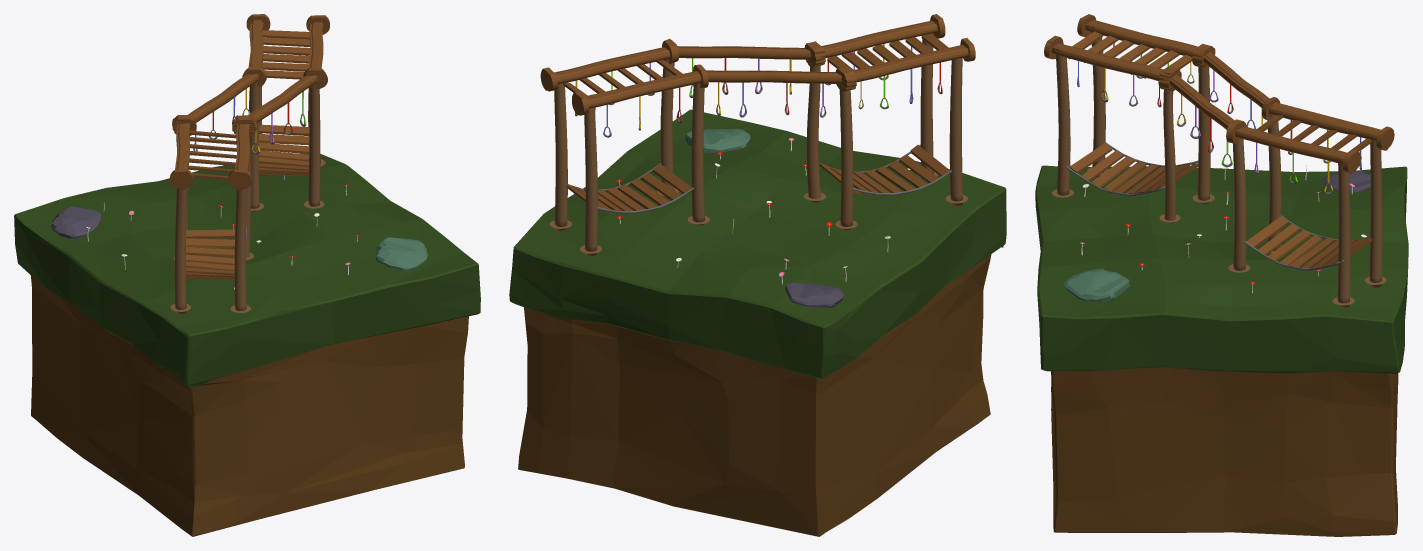
Rendered from tile_junglegym.min.gltf.
3 views of the same model, side by side, from view 1: azimuth 30°, elevation 25°; view 2: azimuth 150°, elevation 25°; view 3: azimuth 270°, elevation 25° (orthographic). The views are drawn at different scales.
Parts seen in each view (by area): view 1: CENTERED.012, Object_76.000, Bridge.008, Bridge.007, Bridge.004, Object_83.003, Object_83.002, Object_87.001, Bridge.001, Box001.043, Box001.044, Object_86.001 (+1 smaller); view 2: CENTERED.012, Object_76.000, Bridge.007, Bridge.008, Object_89.002, Object_83.003, Object_89.003, Object_85.001, Object_86.001, Object_84.001, Bridge.001, Torus.000 (+5 smaller); view 3: CENTERED.012, Object_76.000, Bridge.007, Bridge.008, Object_89.002, Object_83.002, Object_89.003, Bridge.001, Object_87.001, Box001.043, Torus.000, Object_85.001 (+7 smaller).
Part boxes in pixels (x1=…): CENTERED.012: x1=14, y1=153, x2=480, y2=536; Object_76.000: x1=169, y1=14, x2=329, y2=190; Bridge.008: x1=259, y1=124, x2=309, y2=176; Bridge.007: x1=186, y1=229, x2=234, y2=279; Bridge.004: x1=261, y1=30, x2=310, y2=79; Object_83.003: x1=170, y1=188, x2=191, y2=313; Object_83.002: x1=230, y1=188, x2=250, y2=312; Object_87.001: x1=304, y1=84, x2=324, y2=208; Bridge.001: x1=188, y1=130, x2=236, y2=179; Box001.043: x1=375, y1=237, x2=428, y2=270; Box001.044: x1=51, y1=206, x2=101, y2=238; Object_86.001: x1=248, y1=82, x2=263, y2=211; CENTERED.012: x1=509, y1=109, x2=1006, y2=536; Object_76.000: x1=540, y1=14, x2=975, y2=115; Bridge.007: x1=819, y1=145, x2=949, y2=196; Bridge.008: x1=567, y1=164, x2=691, y2=212; Object_89.002: x1=580, y1=107, x2=601, y2=255; Object_83.003: x1=945, y1=58, x2=967, y2=205; Object_89.003: x1=549, y1=83, x2=571, y2=231; Object_85.001: x1=835, y1=84, x2=857, y2=230; Object_86.001: x1=687, y1=83, x2=709, y2=225; Object_84.001: x1=804, y1=65, x2=826, y2=202; Bridge.001: x1=827, y1=33, x2=948, y2=70; Torus.000: x1=575, y1=44, x2=942, y2=137; CENTERED.012: x1=1035, y1=165, x2=1408, y2=536; Object_76.000: x1=1044, y1=14, x2=1394, y2=173; Bridge.007: x1=1069, y1=143, x2=1198, y2=193; Bridge.008: x1=1246, y1=216, x2=1371, y2=270; Object_89.002: x1=1364, y1=139, x2=1386, y2=287; Object_83.002: x1=1052, y1=49, x2=1073, y2=197; Object_89.003: x1=1332, y1=163, x2=1354, y2=307; Bridge.001: x1=1068, y1=31, x2=1192, y2=78; Object_87.001: x1=1228, y1=137, x2=1250, y2=272; Box001.043: x1=1064, y1=269, x2=1130, y2=302; Torus.000: x1=1077, y1=43, x2=1361, y2=194; Object_85.001: x1=1192, y1=65, x2=1214, y2=203.
Size of the model in its own units: 1.07 by 1.22 by 1.09.
